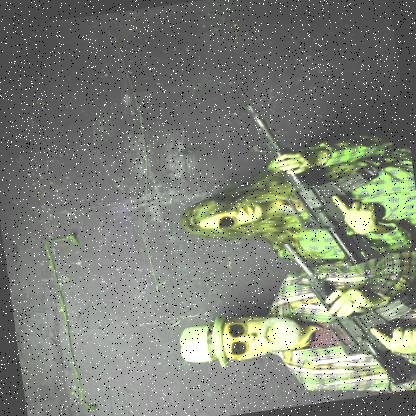rifle: (242, 85, 397, 278), (273, 223, 416, 400)
